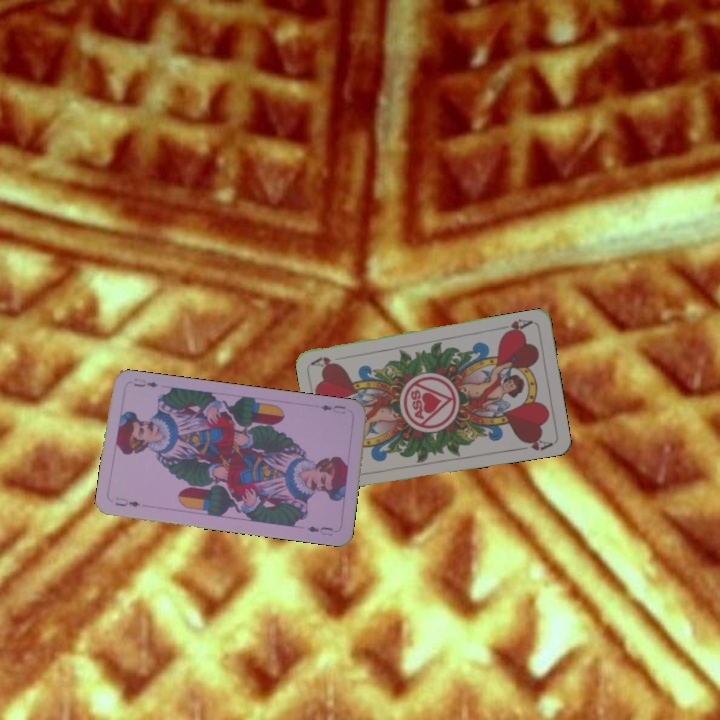EU: (316, 400, 348, 416), (111, 493, 142, 509)
HA: (495, 315, 535, 337)
